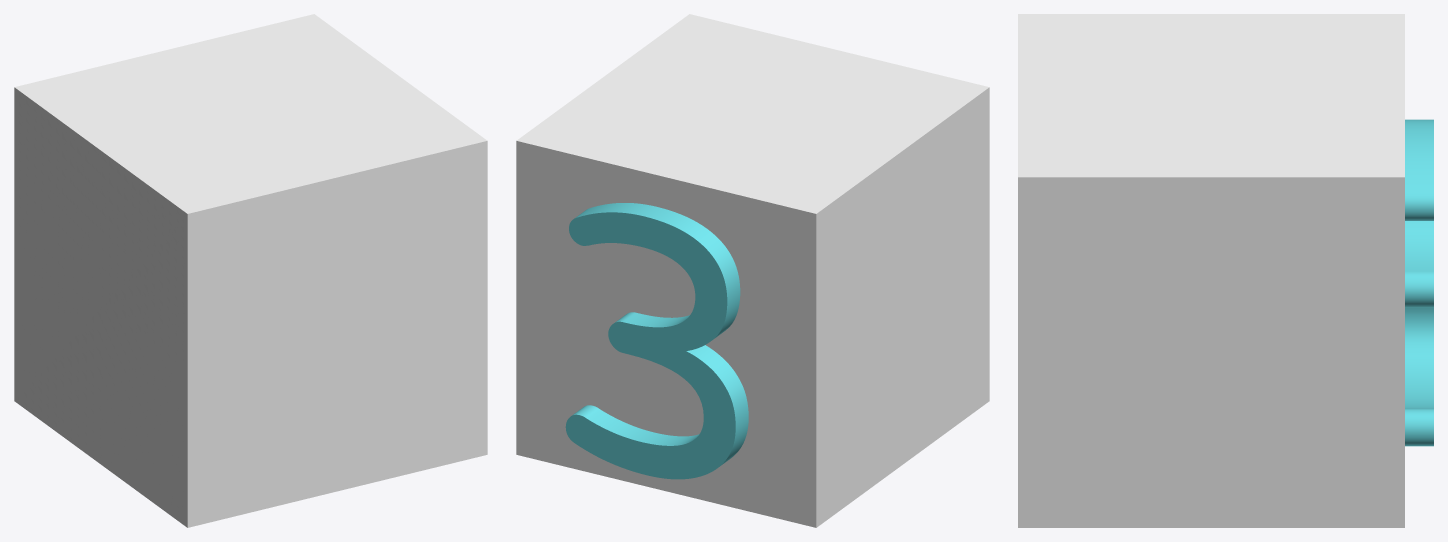
File: stage3.obj
3 renders of one model, left to right at view 1: azimuth 30°, elevation 25°; view 2: azimuth 150°, elevation 25°; view 3: azimuth 270°, elevation 25°, orthographic. The views are drawn at different scales.
Visible parts, largest first — view 1: 立方体; view 2: 立方体, テキスト; view 3: 立方体, テキスト.
Part boxes in pixels (<box>): 立方体: <box>14,14,487,527</box>; 立方体: <box>516,14,989,527</box>; テキスト: <box>565,203,748,479</box>; 立方体: <box>1018,14,1404,527</box>; テキスト: <box>1405,119,1433,446</box>.
Size of the model in its own units: 2 by 2 by 2.15.
1 material, 1 textured.
